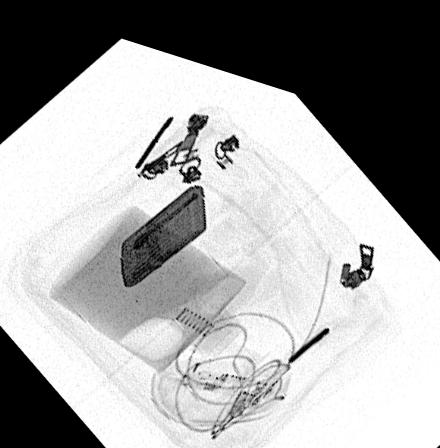Lighter: (119, 170, 206, 281)
